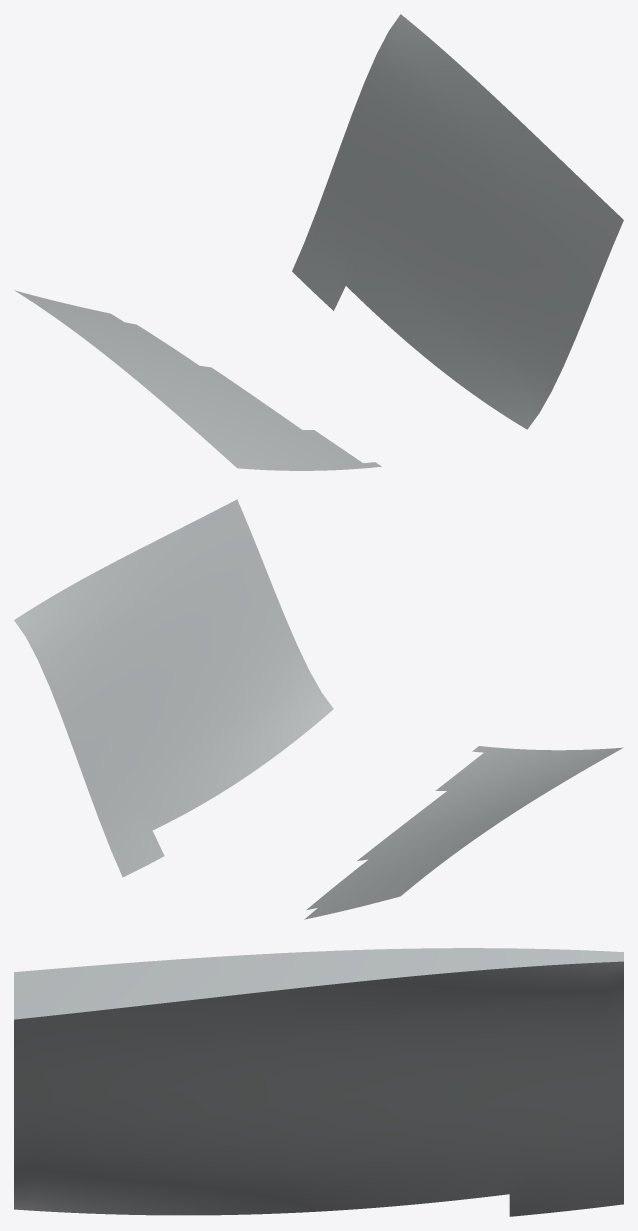
Rendered from alpine-11-7.glb.
3 views of the same model, one above another, from view 1: azimuth 30°, elevation 25°; view 2: azimuth 150°, elevation 25°; view 3: azimuth 270°, elevation 25° (orthographic). The views are drawn at different scales.
Parts seen in each view (by area): view 1: alpine-11-7; view 2: alpine-11-7; view 3: alpine-11-7.
Part boxes in pixels (x1,y1,x2,y2): alpine-11-7: (14, 14, 623, 470); alpine-11-7: (14, 499, 623, 919); alpine-11-7: (14, 948, 623, 1216).
Size of the model in its own units: 256 by 152 by 256.
Materials: 1 (1 with a texture image).
